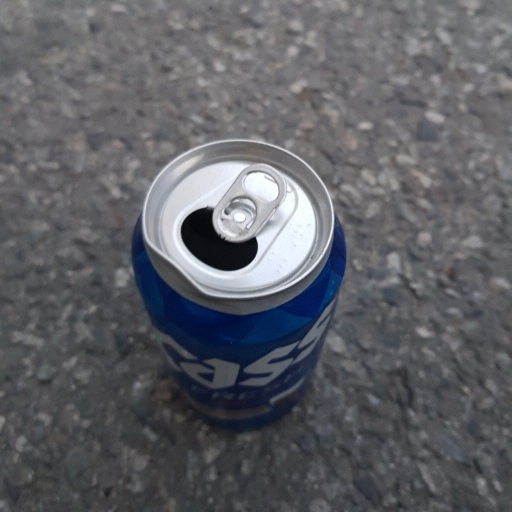Metal_0: (129, 137, 348, 431)
